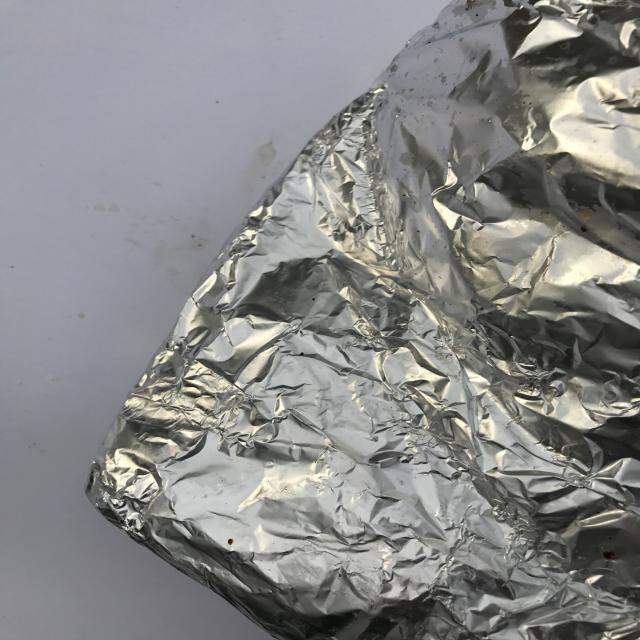metal: (84, 0, 639, 639)
